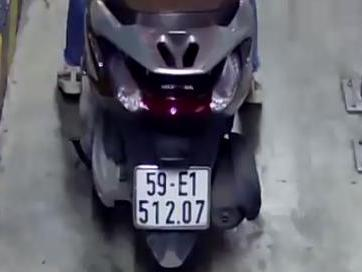num_plate: (131, 164, 212, 230)
